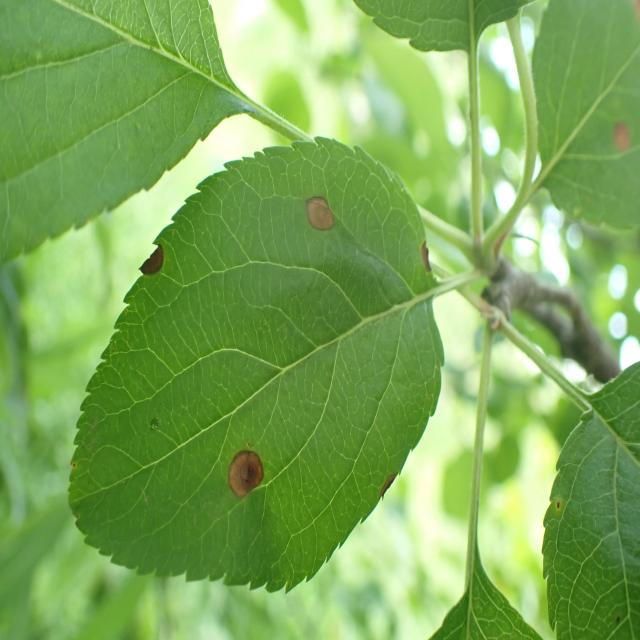Black Rot: (221, 428, 274, 523), (129, 224, 180, 302), (290, 184, 338, 246), (374, 464, 414, 513), (604, 108, 637, 164), (418, 234, 440, 284)
